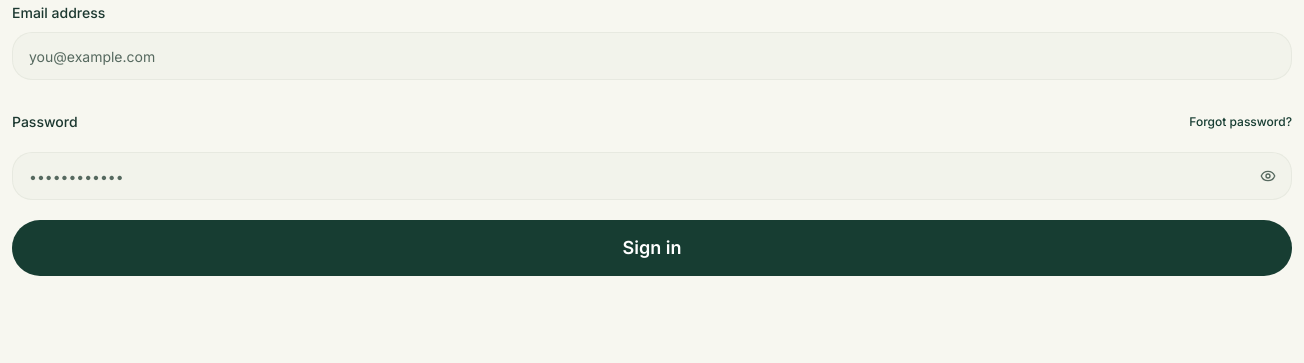
it: does not offer confirmation recovery for an incorrect password or general failure
Type "owner@example.invalid" into the field labelled "Email address" at (652, 56), box [12,32,1292,80]
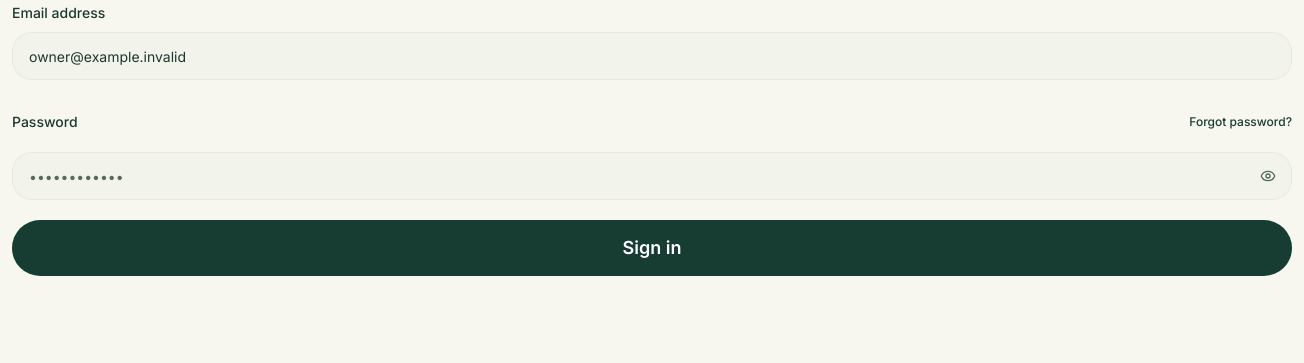
Type "ExamplePass1" into the password field labelled "Password" at (652, 176), box [12,152,1292,200]
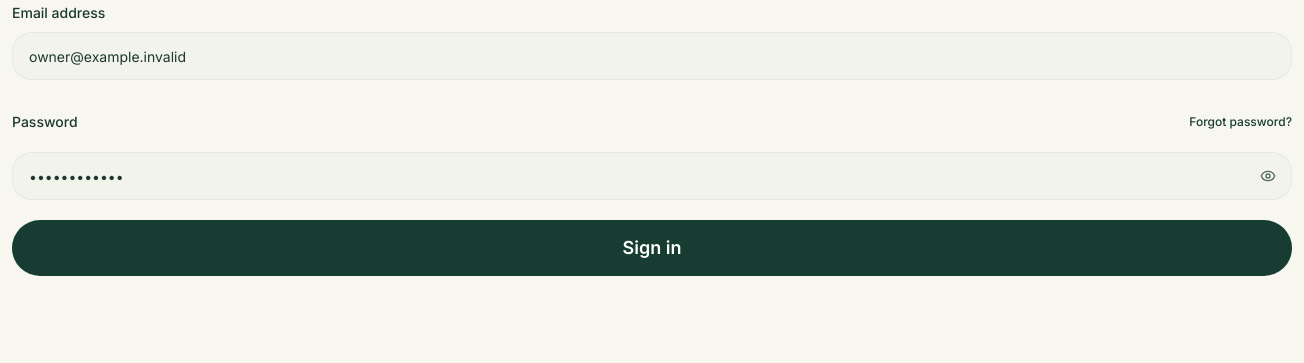
Click the button "Sign in" at (652, 248), box [12,220,1292,276]
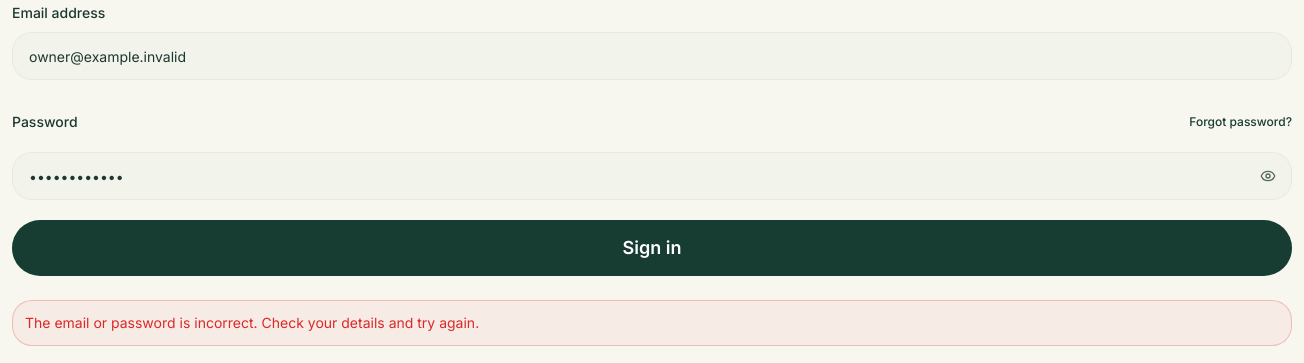
Result: the message "The email or password is incorrect. Check your details and try again." is shown at [12,300,1292,346]
